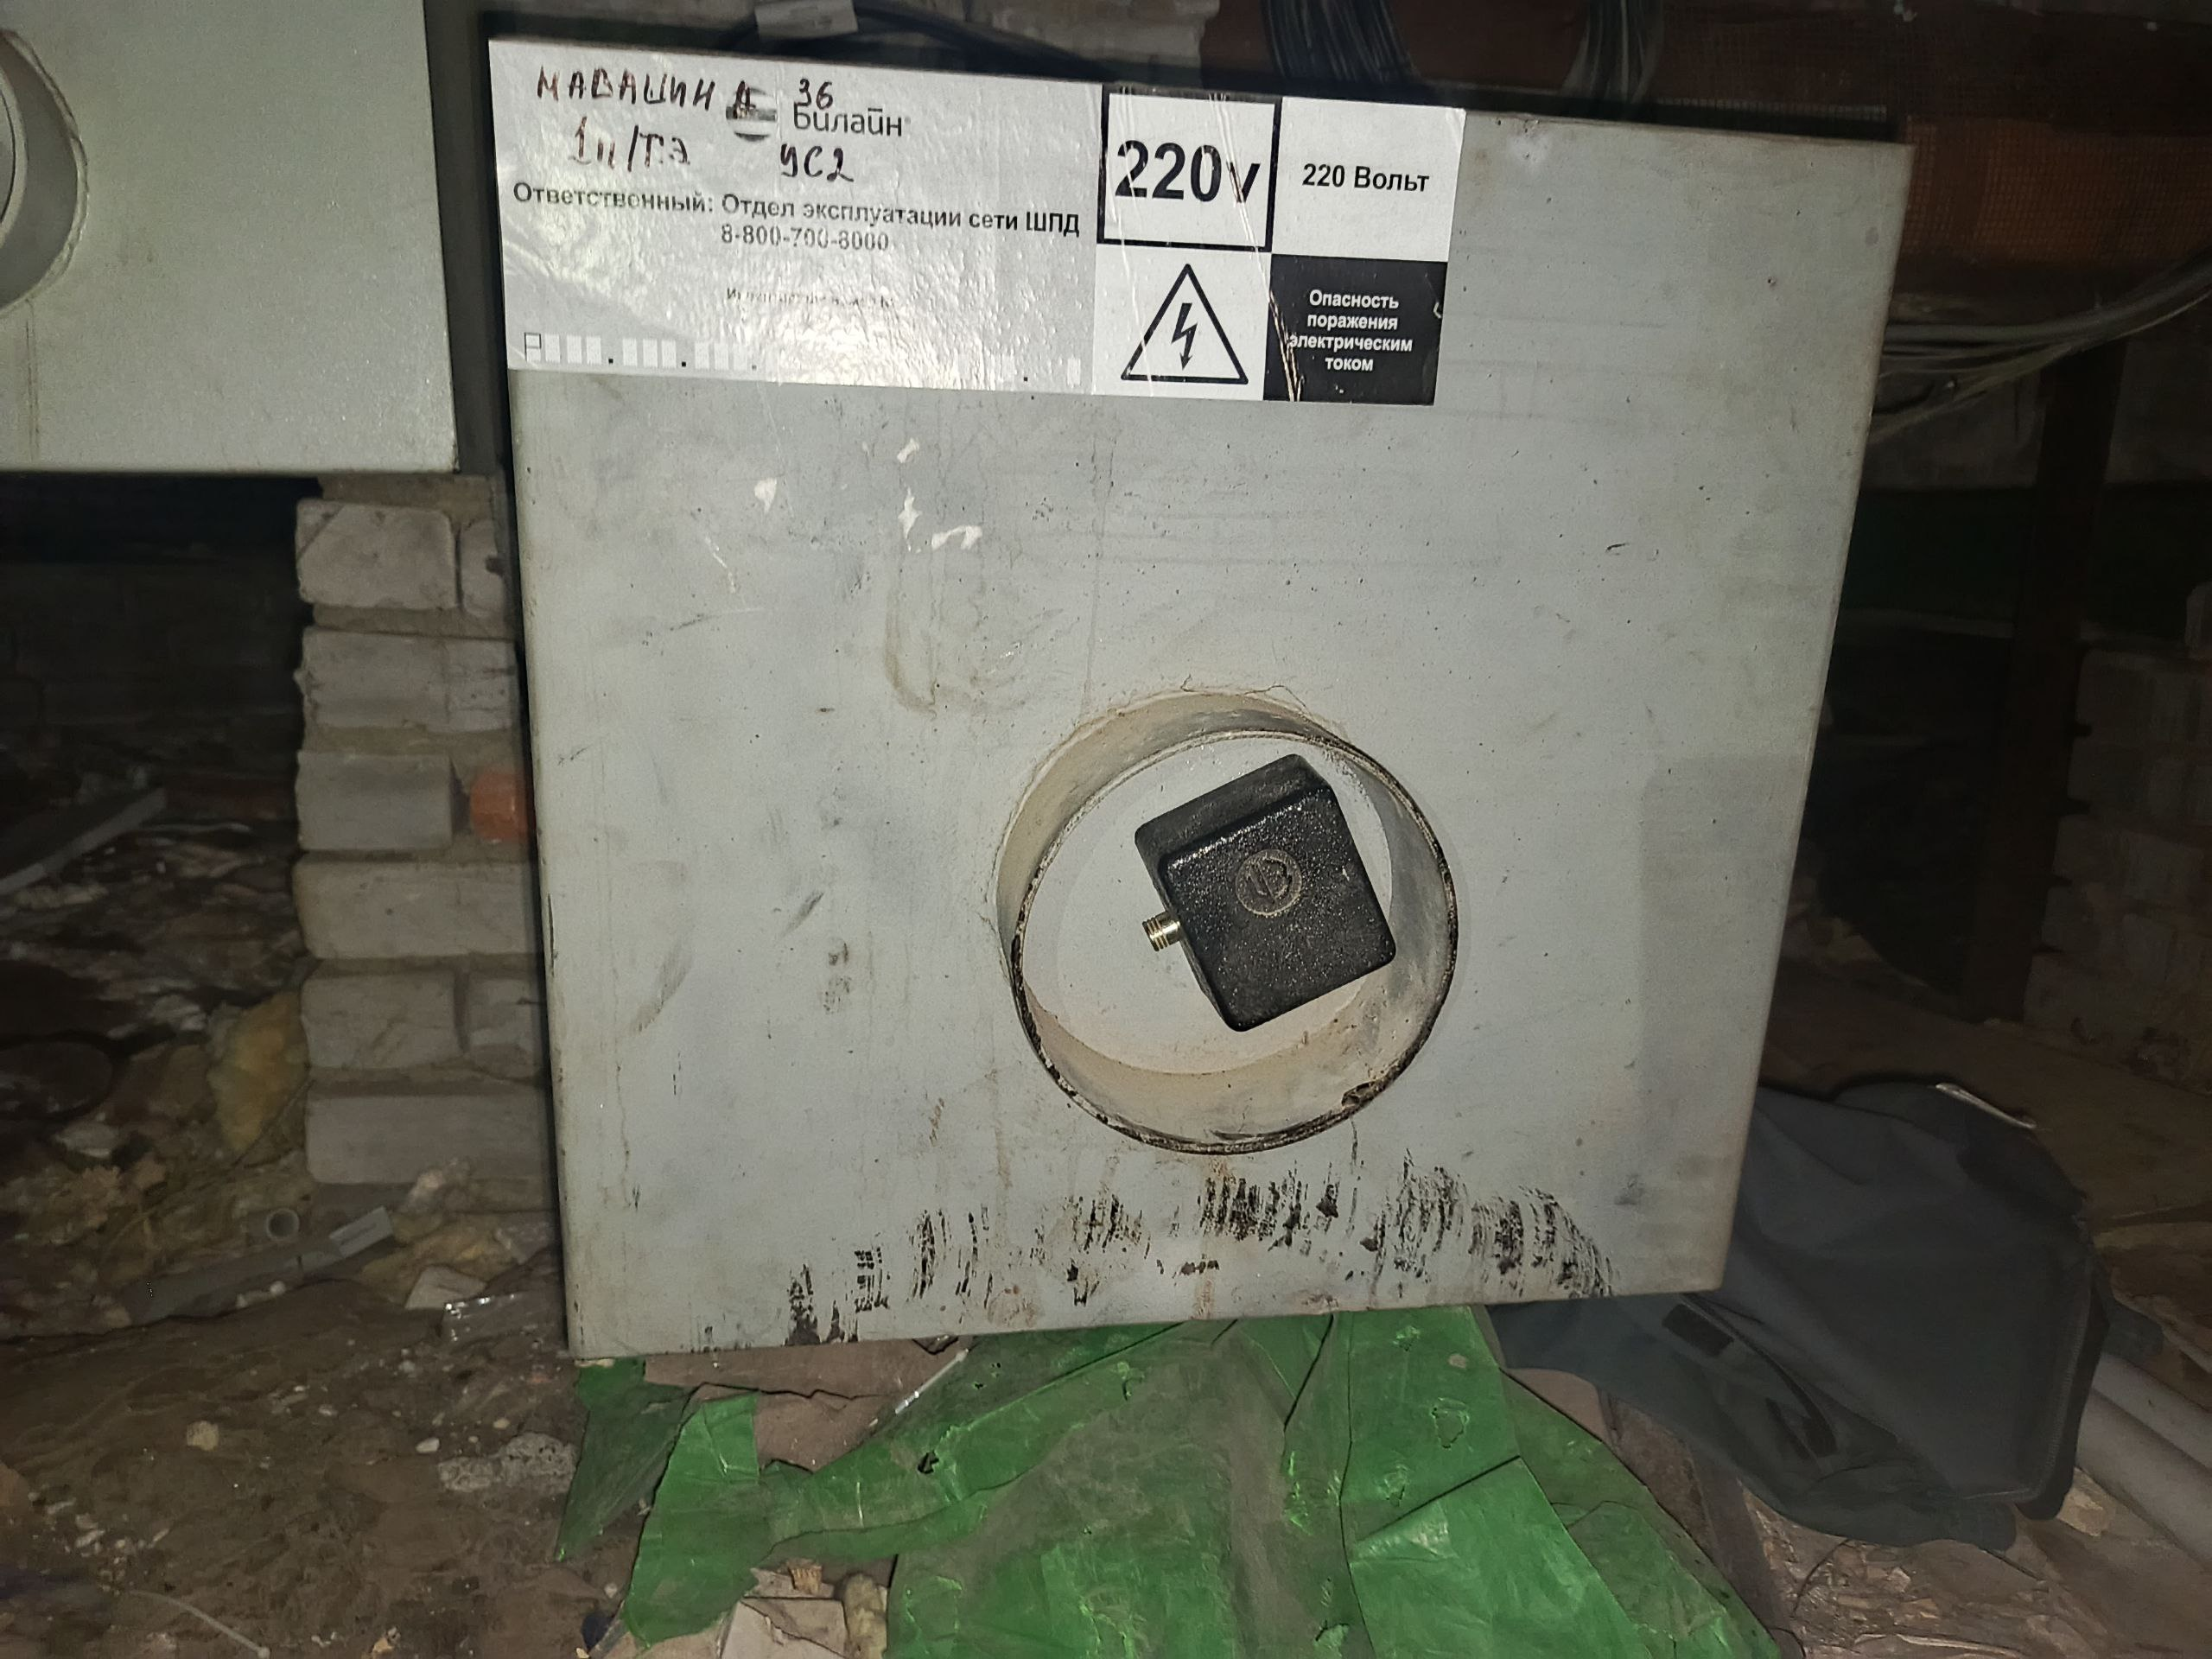shta-9: (458, 9, 1946, 1385)
